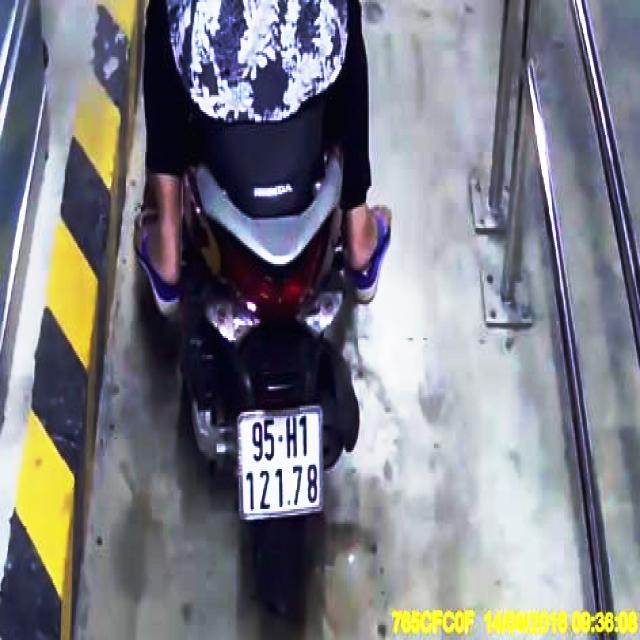license_plate: (240, 409, 324, 522)
